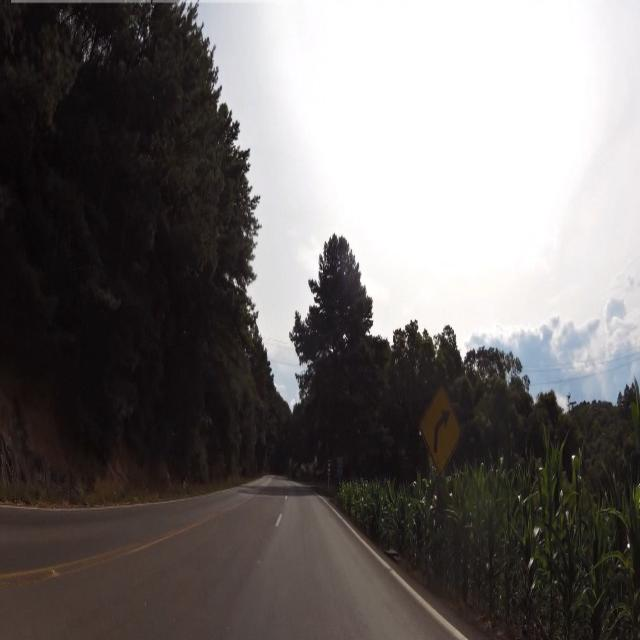A-2b: (419, 370, 465, 475)
